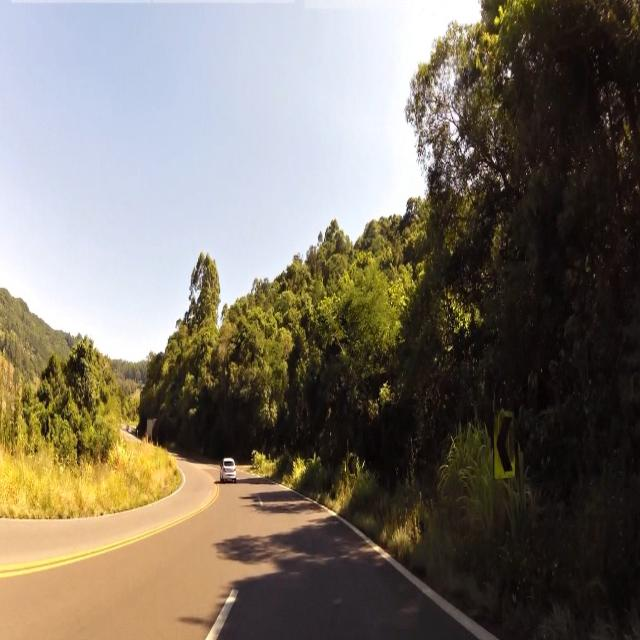Del: (492, 407, 517, 481)
